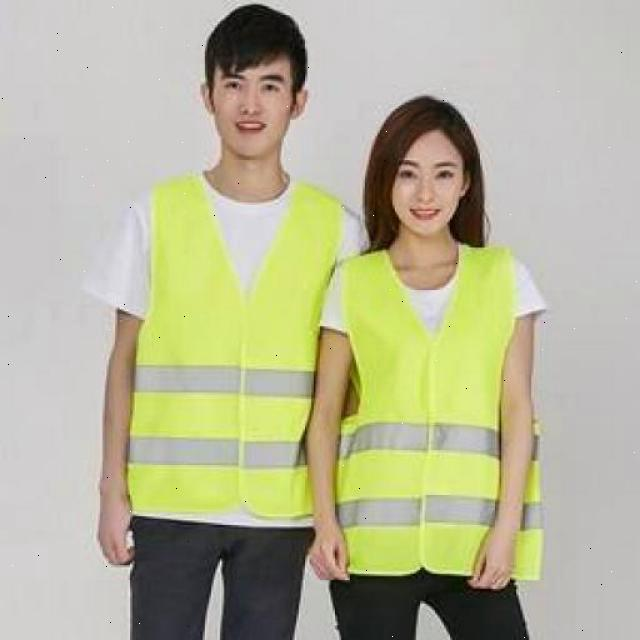Person: (103, 1, 349, 638), (307, 93, 548, 640)
Vest: (132, 173, 328, 539), (339, 247, 521, 572)
